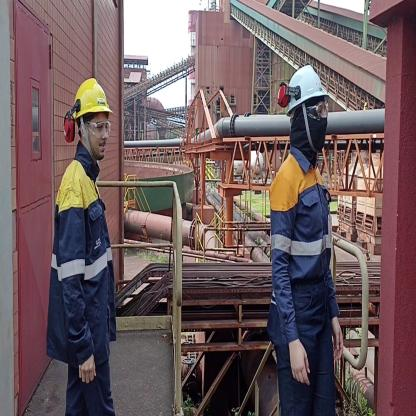Balaclava: (290, 105, 328, 156)
C_eletrica: (53, 161, 118, 360)
Capacete: (285, 63, 329, 101), (74, 76, 111, 117)
Operacional: (269, 157, 340, 332)
